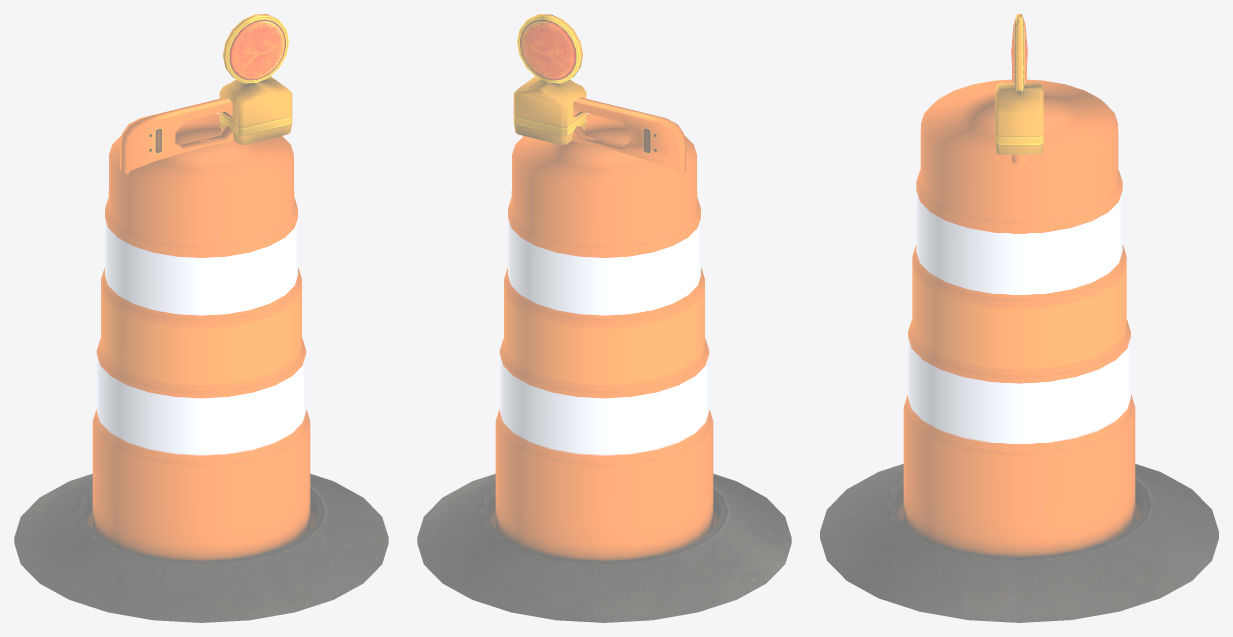
The model's file is gazebo_construction_barrel.glb.
3 renders of one model, left to right at view 1: azimuth 30°, elevation 25°; view 2: azimuth 150°, elevation 25°; view 3: azimuth 270°, elevation 25°, orthographic. The views are drawn at different scales.
Parts seen in each view (by area): view 1: geom-Cylinder002; view 2: geom-Cylinder002; view 3: geom-Cylinder002.
Part boxes in pixels (x1,y1,x2,y2): geom-Cylinder002: (14, 14, 388, 622); geom-Cylinder002: (417, 14, 791, 622); geom-Cylinder002: (820, 14, 1218, 622).
Size of the model in its own units: 1.02 by 1.55 by 1.02.
Materials: 1 (1 with a texture image).
